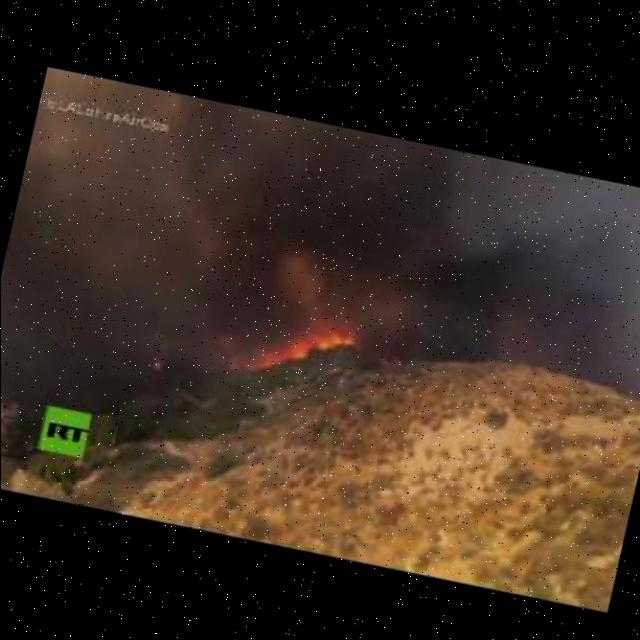fire: (261, 309, 355, 380)
